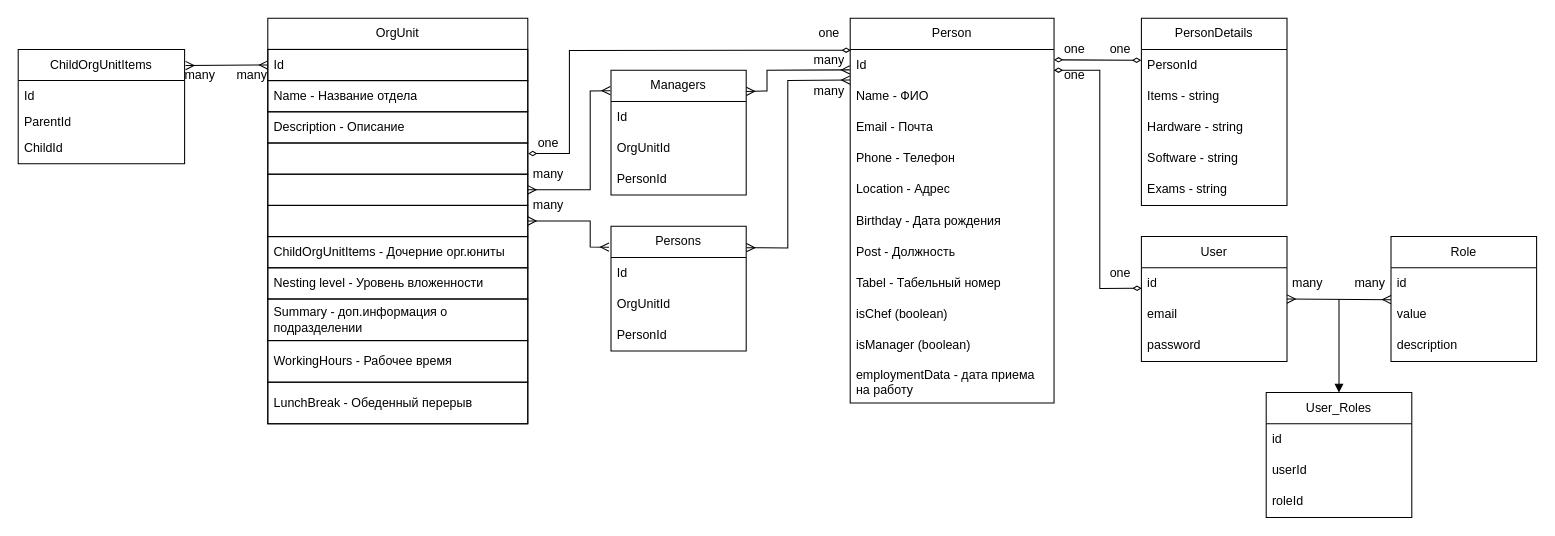
Image size: 1555x536. Some labels were removed from this diagram. The centre of each missing label's shape, as x and y in pixels:
Chef - Начальник: point 397,158
Managers - Менеджеры: point 397,189
Persons - Работники: point 397,220
